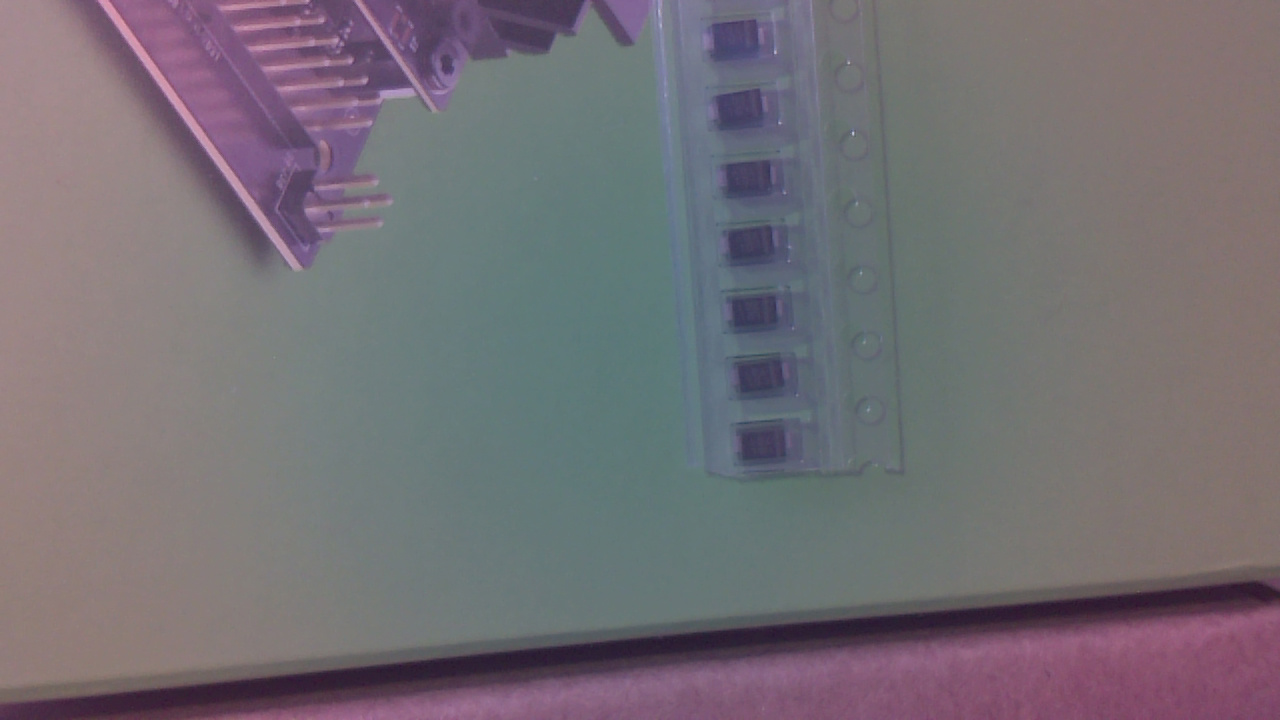Diode: (734, 429, 801, 470), (703, 21, 766, 62), (721, 226, 784, 266), (711, 96, 780, 130), (728, 298, 793, 333), (721, 166, 785, 201), (733, 365, 800, 398)
